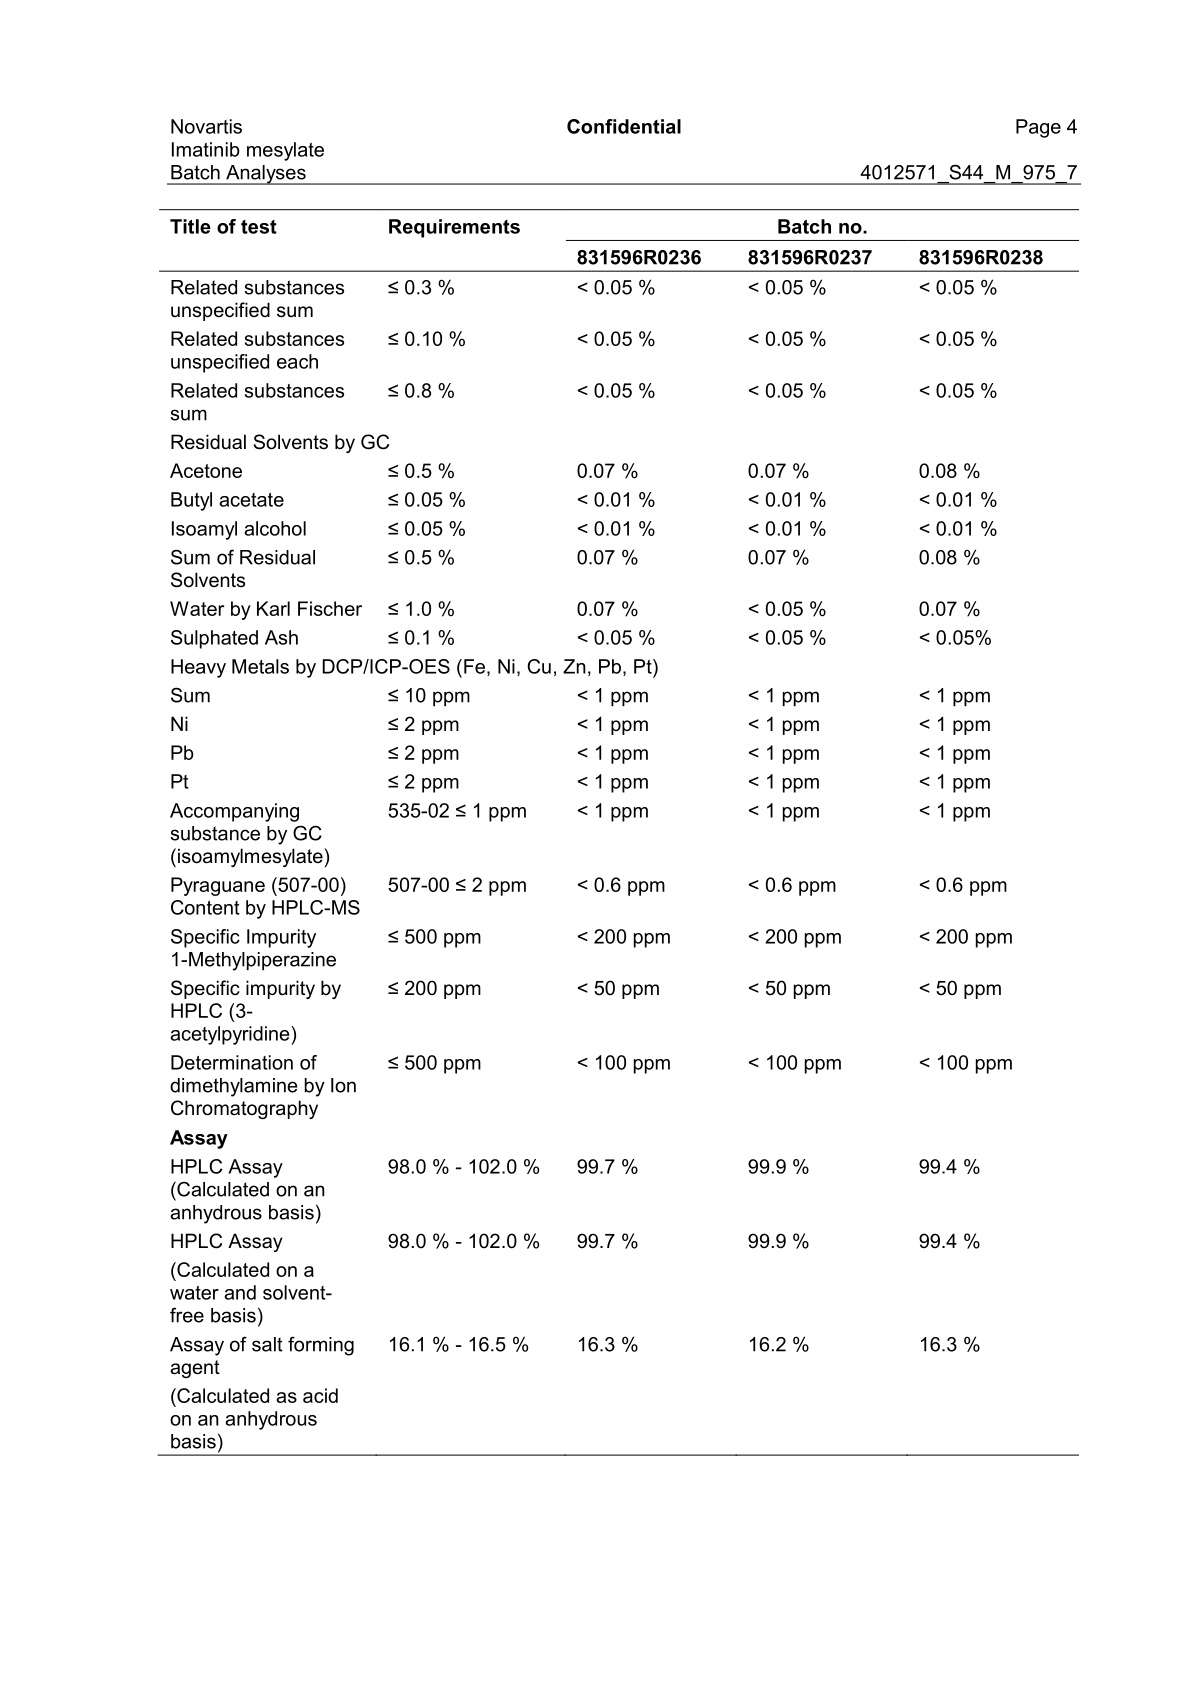partial_lined_merged_cells: (157, 207, 1079, 1455)
